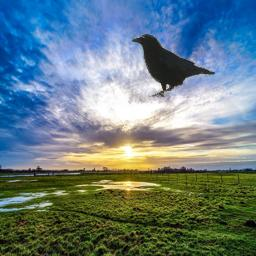Crow: (129, 32, 215, 97)
